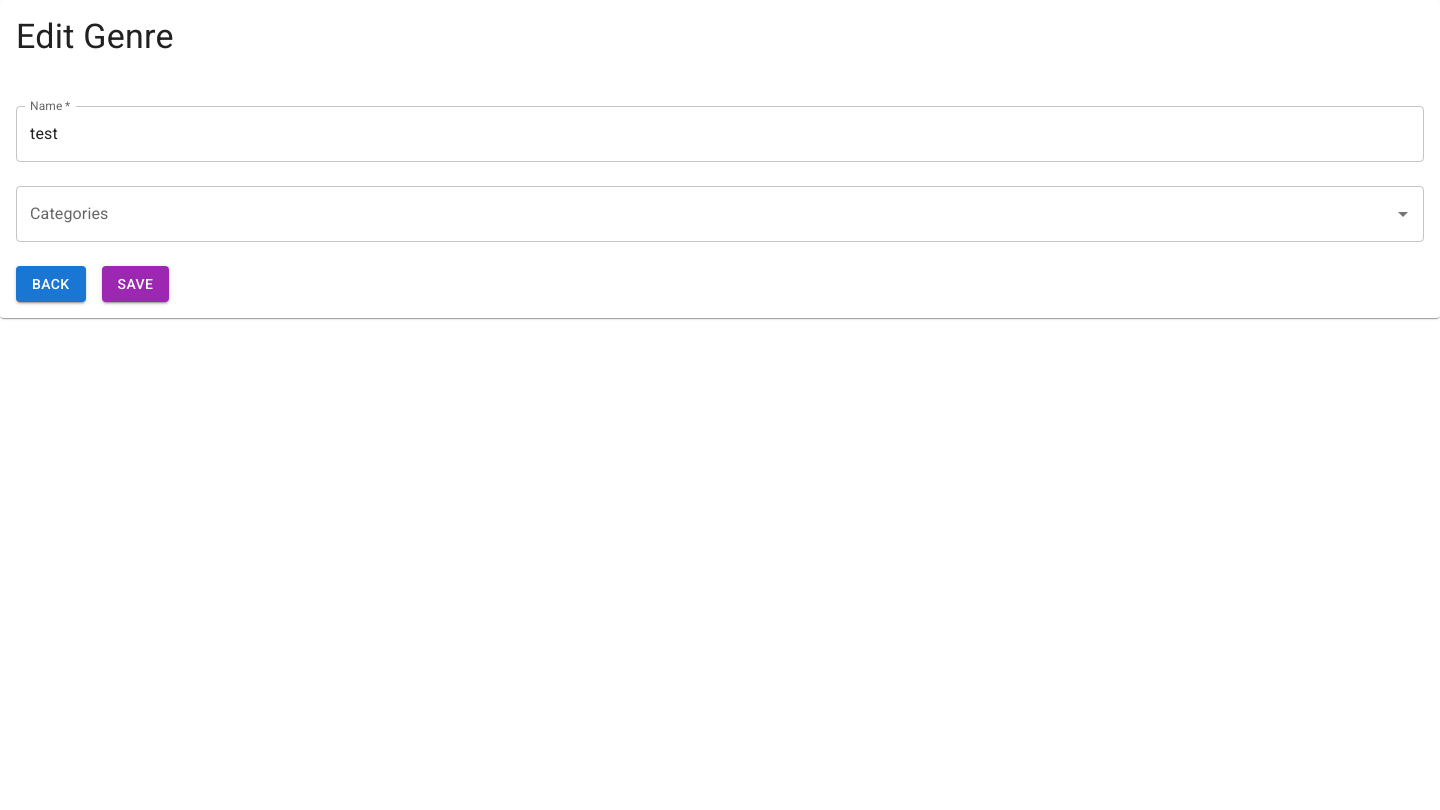
Test: GenreEdit › should be click submit
expect the field labelled "Name" holds "test": met, box left=16, top=106, right=1424, bottom=162
What coordinates should you click on to do the following:
click the button "Save"
I would click on:
 (136, 284)
Its box is left=102, top=266, right=169, bottom=302.
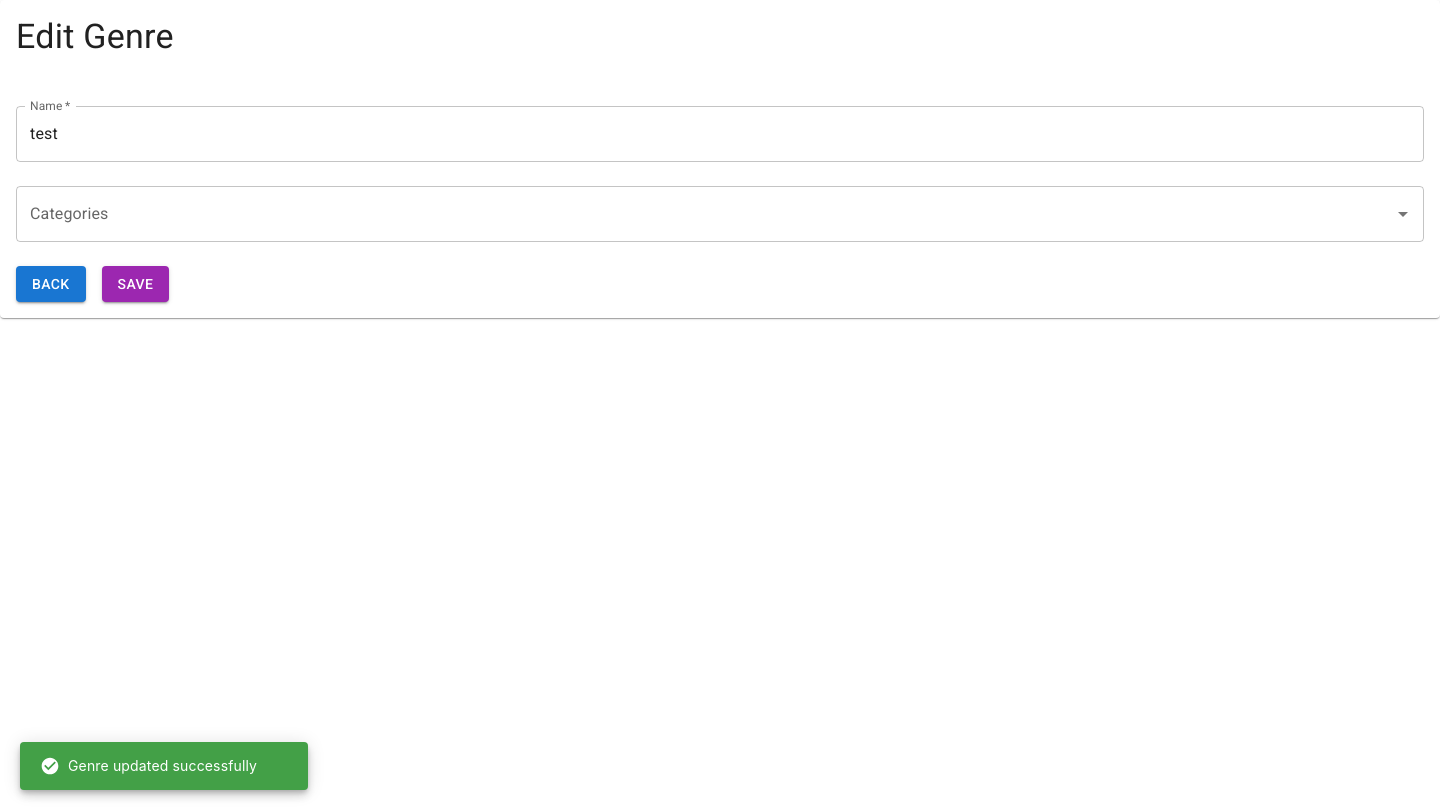
expect the text "Genre updated successfully" is shown: met, box left=40, top=756, right=257, bottom=776
